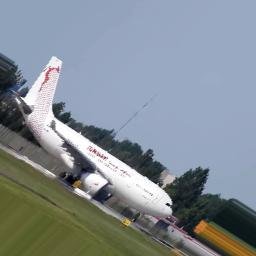Airplane: (12, 53, 176, 220)
